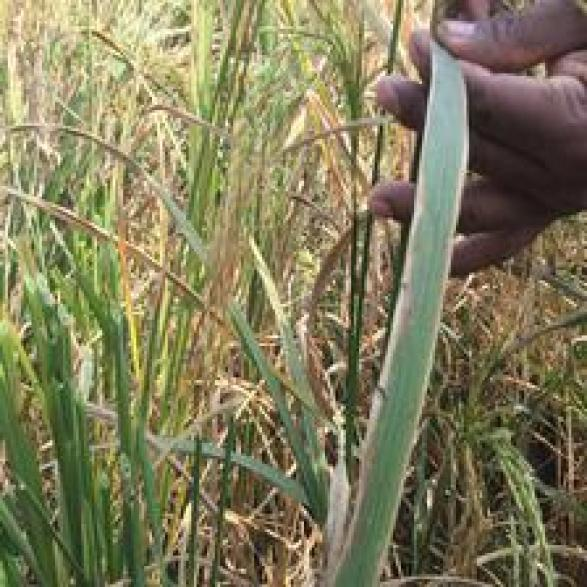Bacteria_Leaf_Blight: (348, 144, 443, 516)
